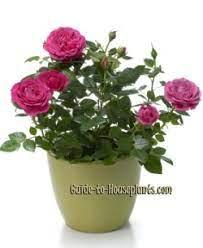Rose: (42, 19, 88, 69), (8, 74, 53, 119), (161, 69, 200, 114), (33, 63, 74, 95), (130, 92, 162, 130)
